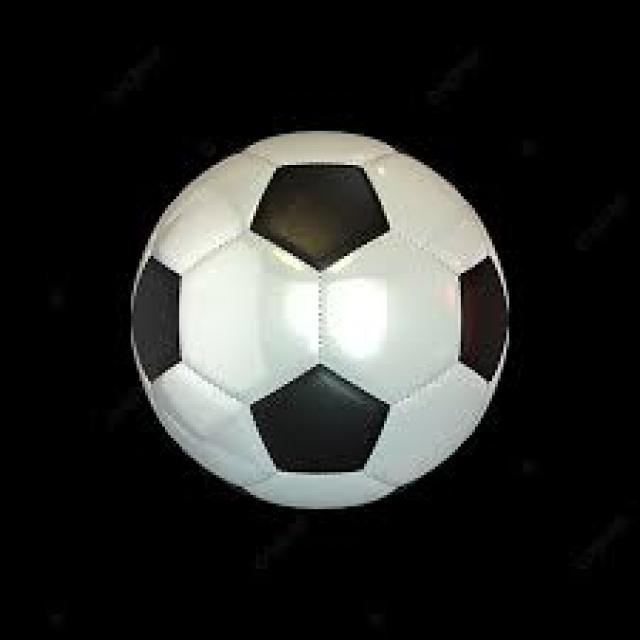football: (125, 131, 515, 512)
